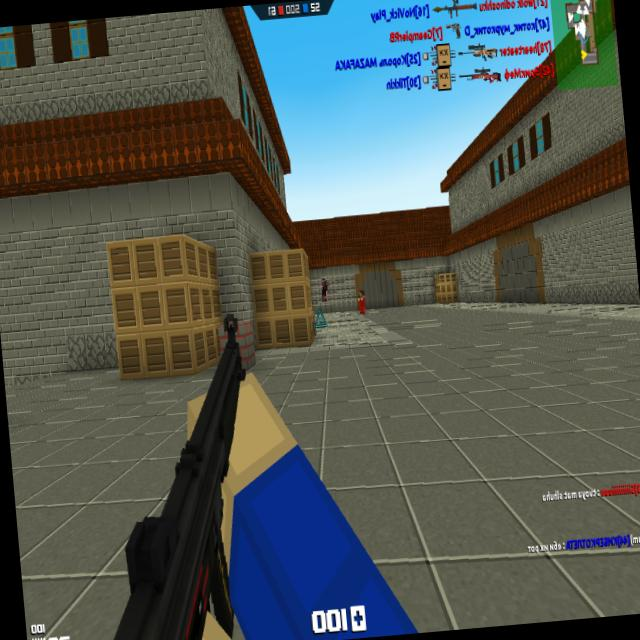enemy: (320, 276, 330, 302), (356, 288, 366, 314)
